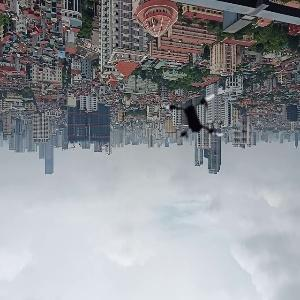drone: (166, 83, 234, 151)
